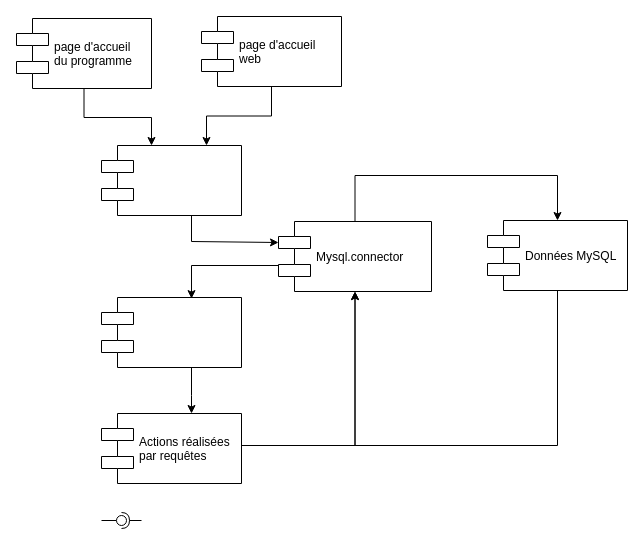
Image size: 644x545. Some labels were removed from this diagram. Each missing label, with the centre of its shape:
authentification de l'utilisateur: pixel 171 180
Interface User: pixel 171 332
